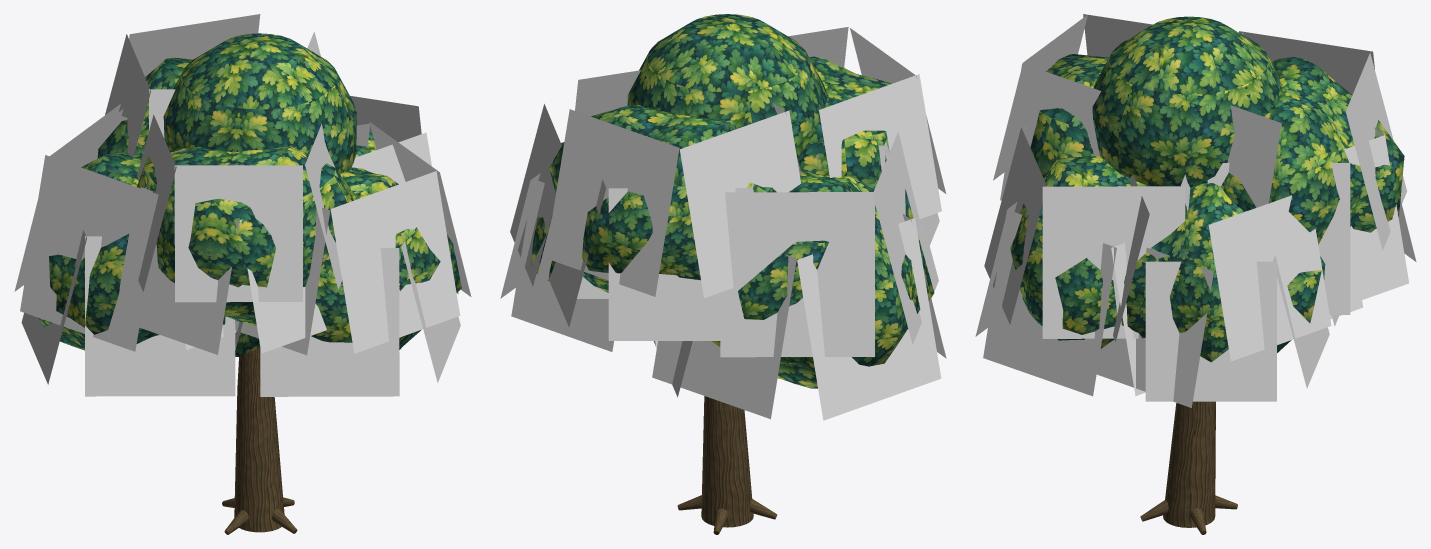
The model's file is NaturalTree_01.fbx.
The picture shows the model from 3 angles, left to right: view 1: azimuth 30°, elevation 25°; view 2: azimuth 150°, elevation 25°; view 3: azimuth 270°, elevation 25°; orthographic projection. The views are drawn at different scales.
Parts seen in each view (by area): view 1: NaturalTree_01.001; view 2: NaturalTree_01.001; view 3: NaturalTree_01.001.
Boxes of the visible parts, x1,y1,x2,y2 form: NaturalTree_01.001: [14, 14, 471, 534]; NaturalTree_01.001: [500, 14, 946, 534]; NaturalTree_01.001: [975, 14, 1416, 534].
Size of the model in its own units: 581 by 664 by 541.
3 materials, 2 textured.
